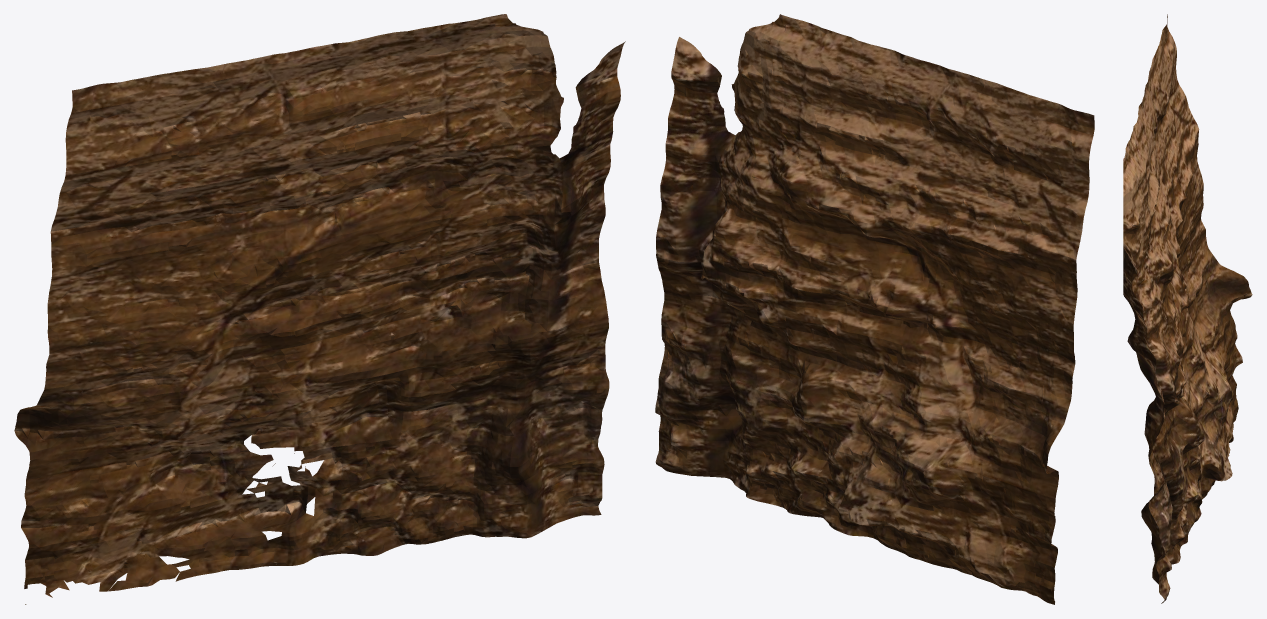
3 views of the same model, side by side, from view 1: azimuth 30°, elevation 25°; view 2: azimuth 150°, elevation 25°; view 3: azimuth 270°, elevation 25° (orthographic). The views are drawn at different scales.
Size of the model in its own units: 1.04 by 1.04 by 0.3034.
Materials: 3 (3 with a texture image).
